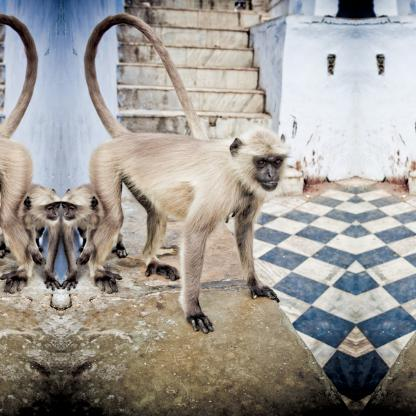Monkey: (86, 13, 292, 333), (60, 183, 126, 291), (0, 183, 61, 292)
